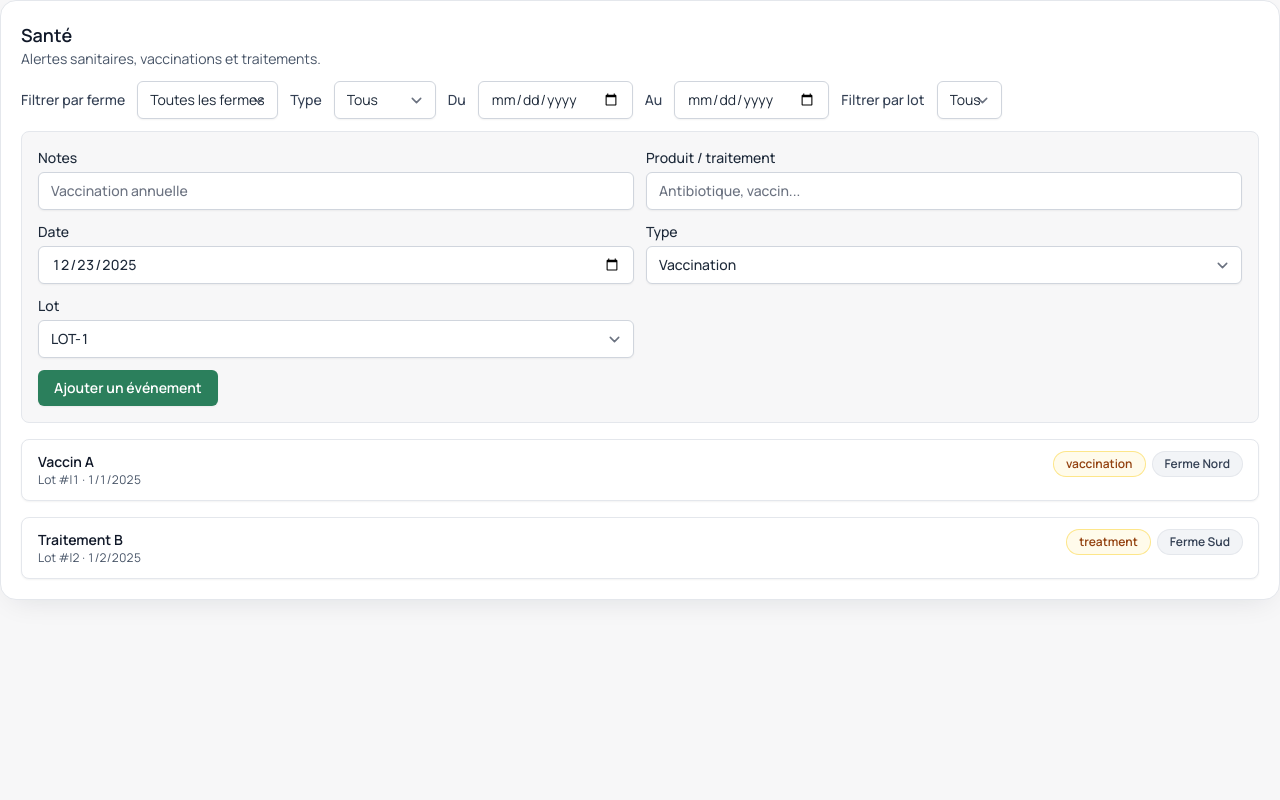
Test case: SantePage › filtre par ferme
This screenshot has width=1280, height=800.
Expected: the text "Vaccin A" is shown, [38,452,94,471]
Expected: the text "Traitement B" is shown, [38,530,123,549]
Select "Ferme Sud" in the dropdown labelled "Filtrer par ferme". click: (208,100)
box: [137,81,278,119]
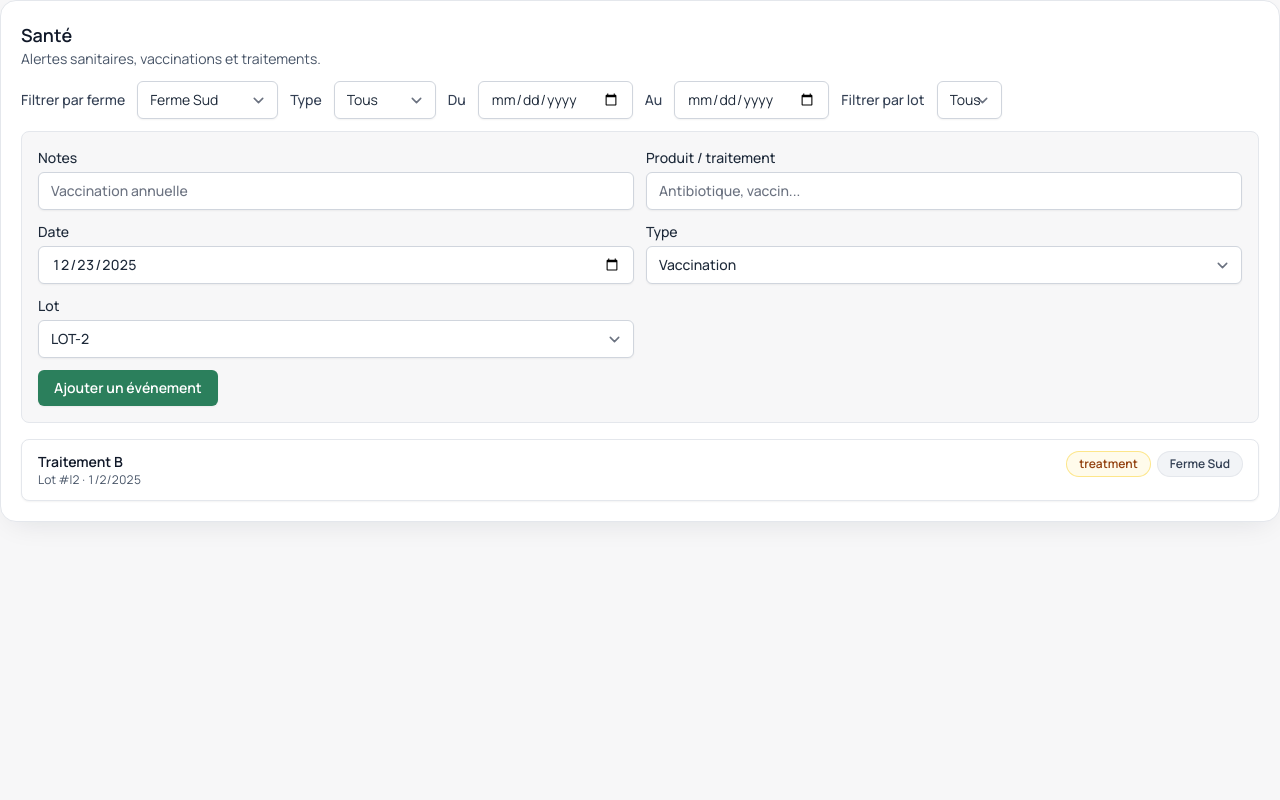
Expected: the text "Traitement B" is shown, [38,452,123,471]
Expected: the text "Vaccin A" is gone
